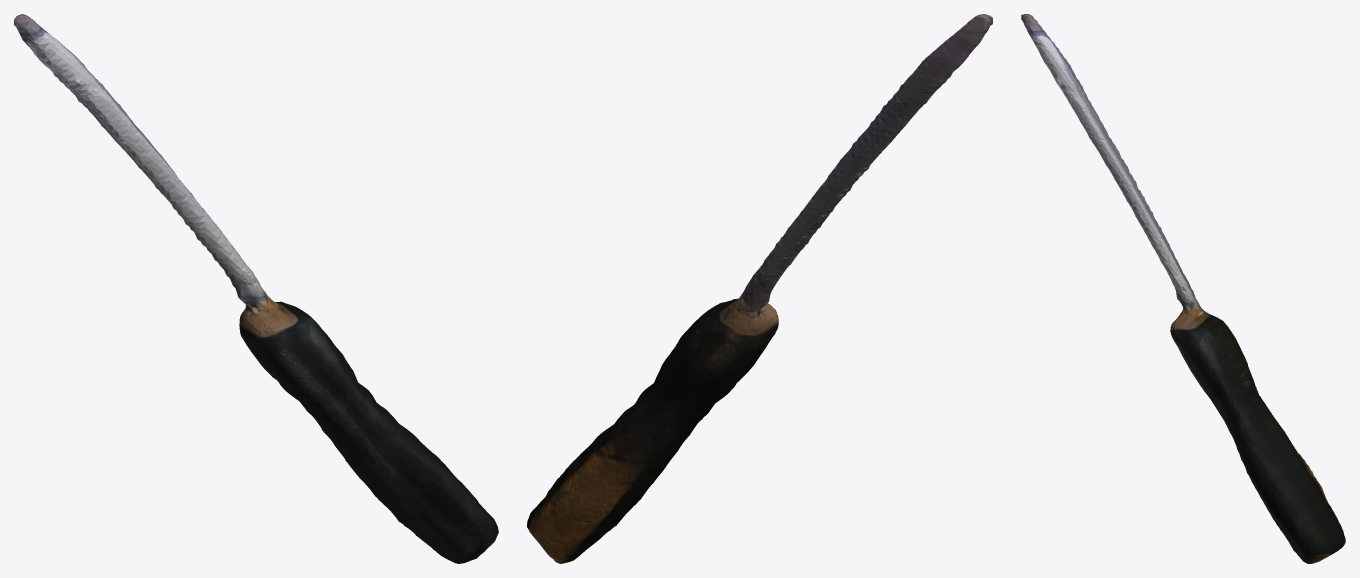
File: 1_rgba.obj
3 renders of one model, left to right at view 1: azimuth 30°, elevation 25°; view 2: azimuth 150°, elevation 25°; view 3: azimuth 330°, elevation 25°, orthographic. The views are drawn at different scales.
Bounding box in the file's own units: 1.29 × 1.71 × 0.2378.
Materials: 1 (1 with a texture image).
